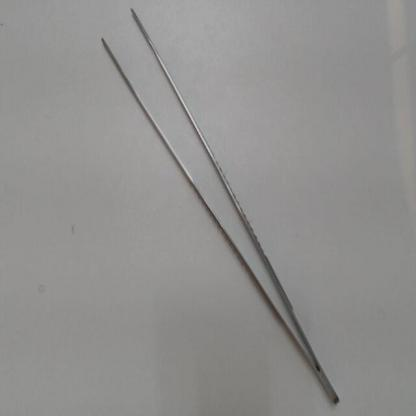DeBakey Dissector: (89, 2, 352, 407)
